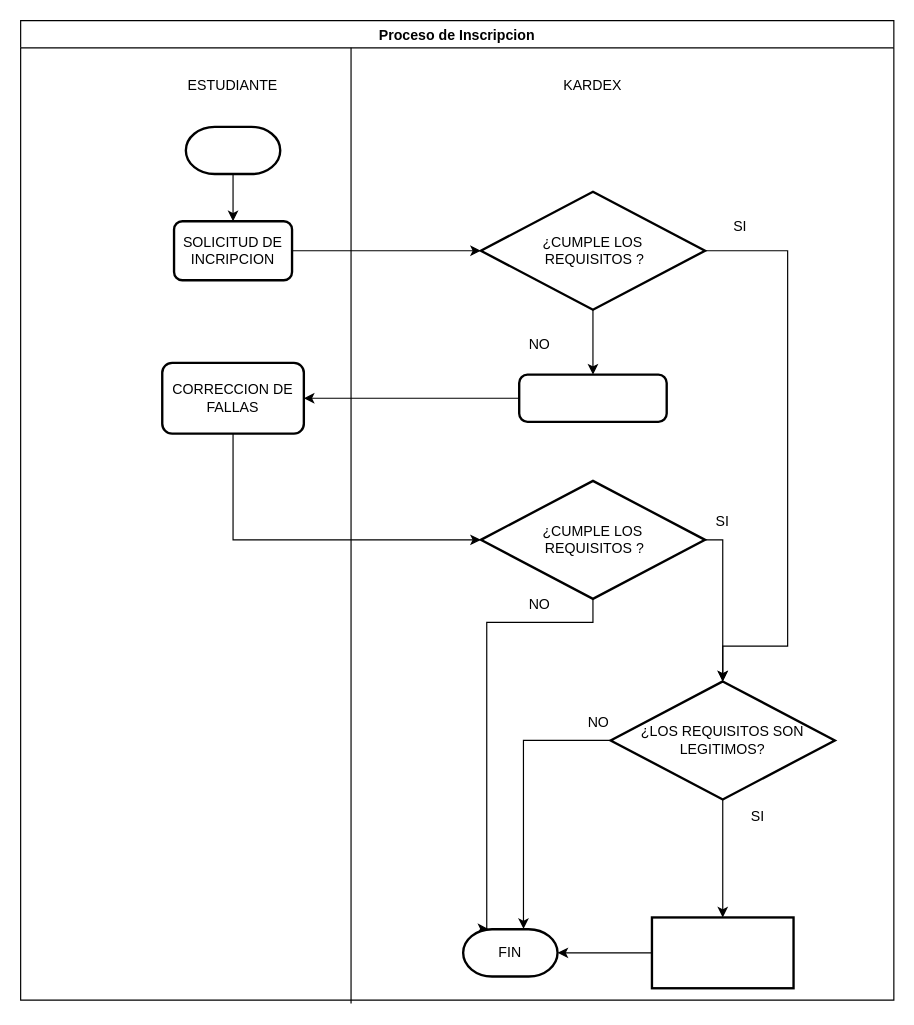
The diagram is 914 pixels wide and 1025 high, and some of its shapes have lost their labels. Here are the shapes that lost their labels. From the top down, the centre of each, then its label:
At point 232,150: "INICIO".
At point 592,397: "PUBLICACION DE OBSERVACIONES".
At point 722,952: "INSCRIPCION".
